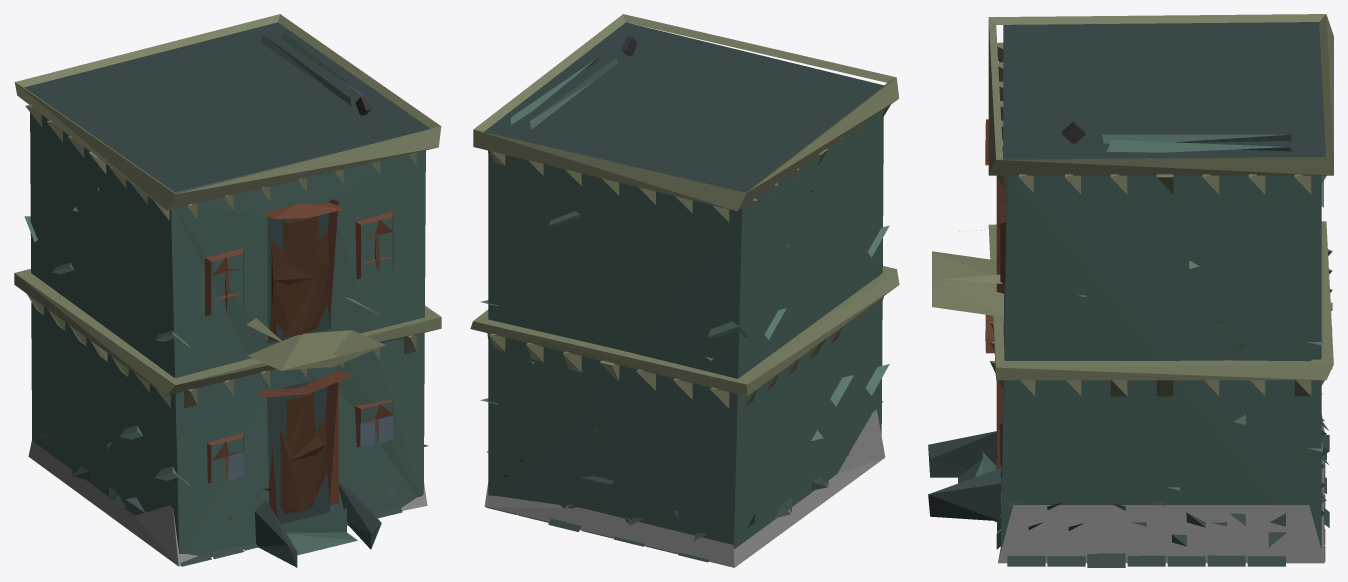
File: 2Story_Balcony_lod.glb
3 renders of one model, left to right at view 1: azimuth 30°, elevation 25°; view 2: azimuth 150°, elevation 25°; view 3: azimuth 270°, elevation 25°, orthographic. The views are drawn at different scales.
Visible parts, largest first — view 1: 2Story_Balcony_Mat; view 2: 2Story_Balcony_Mat; view 3: 2Story_Balcony_Mat.
Part boxes in pixels (x1,y1,x2,y2): 2Story_Balcony_Mat: (14, 14, 441, 567); 2Story_Balcony_Mat: (470, 14, 899, 567); 2Story_Balcony_Mat: (928, 14, 1333, 567).
Bounding box in the file's own units: 2.16 × 2.93 × 2.53.
